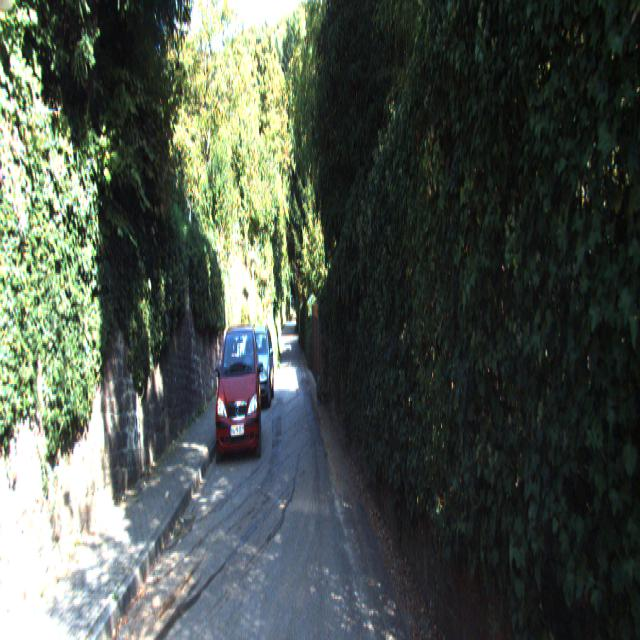Car: (213, 319, 263, 471), (240, 320, 275, 416)
